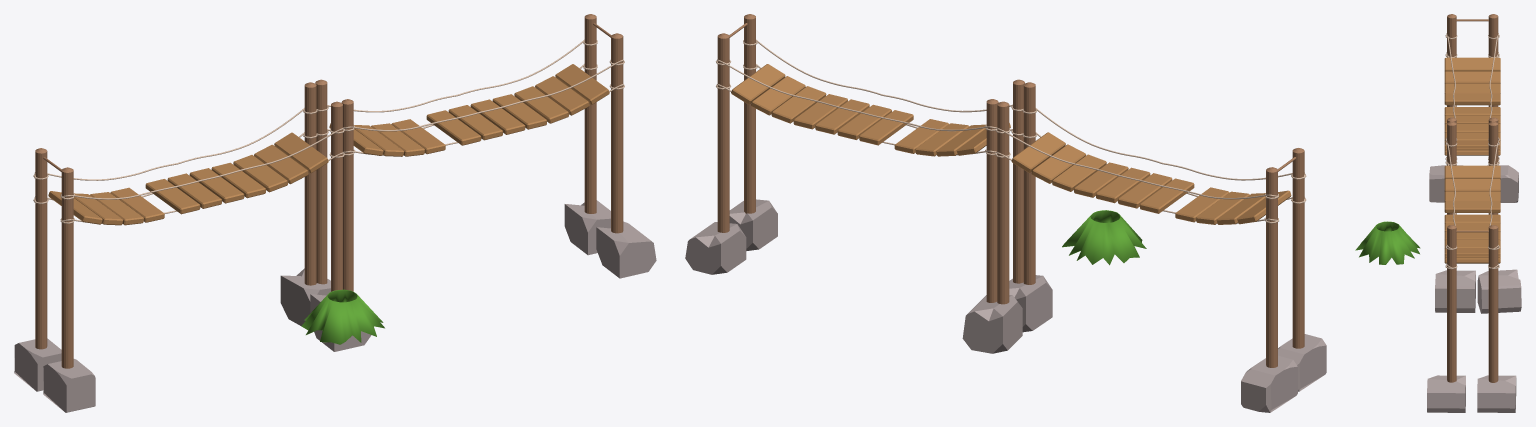
Rendered from Map1_Stage1_Bridge.fbx.
3 views of the same model, side by side, from view 1: azimuth 30°, elevation 25°; view 2: azimuth 150°, elevation 25°; view 3: azimuth 270°, elevation 25° (orthographic). The views are drawn at different scales.
Parts seen in each view (by area): view 1: Bridge_all, Cylinder.075, Tree1_E, Cube.058, Cube.056, Cube.055, Cube.053, Cube.054, Bridge_Rope1, Bridge_Rope4, Bridge_Board.001, Bridge_Board (+19 smaller); view 2: Bridge_all, Cylinder.075, Tree1_E, Cube.054, Cube.053, Cube.055, Cube.058, Cube.057, Cube.056, Bridge_Rope1, Bridge_Rope4, Bridge_Board (+19 smaller); view 3: Cylinder.075, Tree1_E, Cube.054, Cube.055, Cube.058, Cube.057, Bridge_all, Cube.060, Cube.044, Cube.045, Cube.007, Cube.024 (+19 smaller).
Boxes of the visible parts, x1,y1,x2,y2 form: Bridge_all: [35, 82, 342, 368]; Cylinder.075: [315, 14, 623, 291]; Tree1_E: [301, 289, 384, 344]; Cube.058: [596, 221, 656, 278]; Cube.056: [43, 359, 95, 412]; Cube.055: [564, 200, 610, 255]; Cube.053: [14, 338, 61, 391]; Cube.054: [280, 268, 330, 325]; Bridge_Rope1: [33, 108, 344, 199]; Bridge_Rope4: [317, 39, 624, 131]; Bridge_Board.001: [555, 64, 609, 104]; Bridge_Board: [274, 132, 328, 173]; Bridge_all: [997, 82, 1304, 367]; Cylinder.075: [717, 14, 1024, 302]; Tree1_E: [1062, 210, 1146, 265]; Cube.054: [962, 295, 1022, 353]; Cube.053: [1241, 355, 1297, 412]; Cube.055: [685, 222, 746, 274]; Cube.058: [729, 199, 777, 250]; Cube.057: [1009, 275, 1052, 332]; Cube.056: [1278, 334, 1326, 391]; Bridge_Rope1: [995, 108, 1306, 199]; Bridge_Rope4: [716, 39, 1023, 131]; Bridge_Board: [1011, 132, 1065, 172]; Cylinder.075: [1447, 121, 1498, 382]; Tree1_E: [1355, 221, 1420, 264]; Cube.054: [1477, 269, 1521, 313]; Cube.055: [1477, 375, 1516, 412]; Cube.058: [1427, 375, 1465, 412]; Cube.057: [1435, 270, 1475, 312]; Bridge_all: [1447, 14, 1498, 123]; Cube.060: [1444, 57, 1500, 71]; Cube.044: [1444, 165, 1500, 179]; Cube.045: [1444, 179, 1500, 191]; Cube.007: [1444, 71, 1500, 83]; Cube.024: [1444, 93, 1500, 105].
Bounding box in the file's own units: 1187 × 3816 × 1481.
